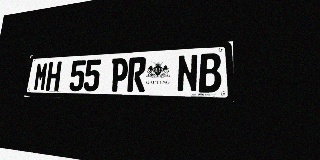5: (83, 59, 101, 91), (69, 60, 86, 91)
B: (199, 53, 221, 93)
H: (45, 61, 62, 91)
M: (33, 62, 49, 91)
N: (177, 54, 198, 92)
P: (110, 58, 129, 92)
R: (127, 57, 147, 92)
